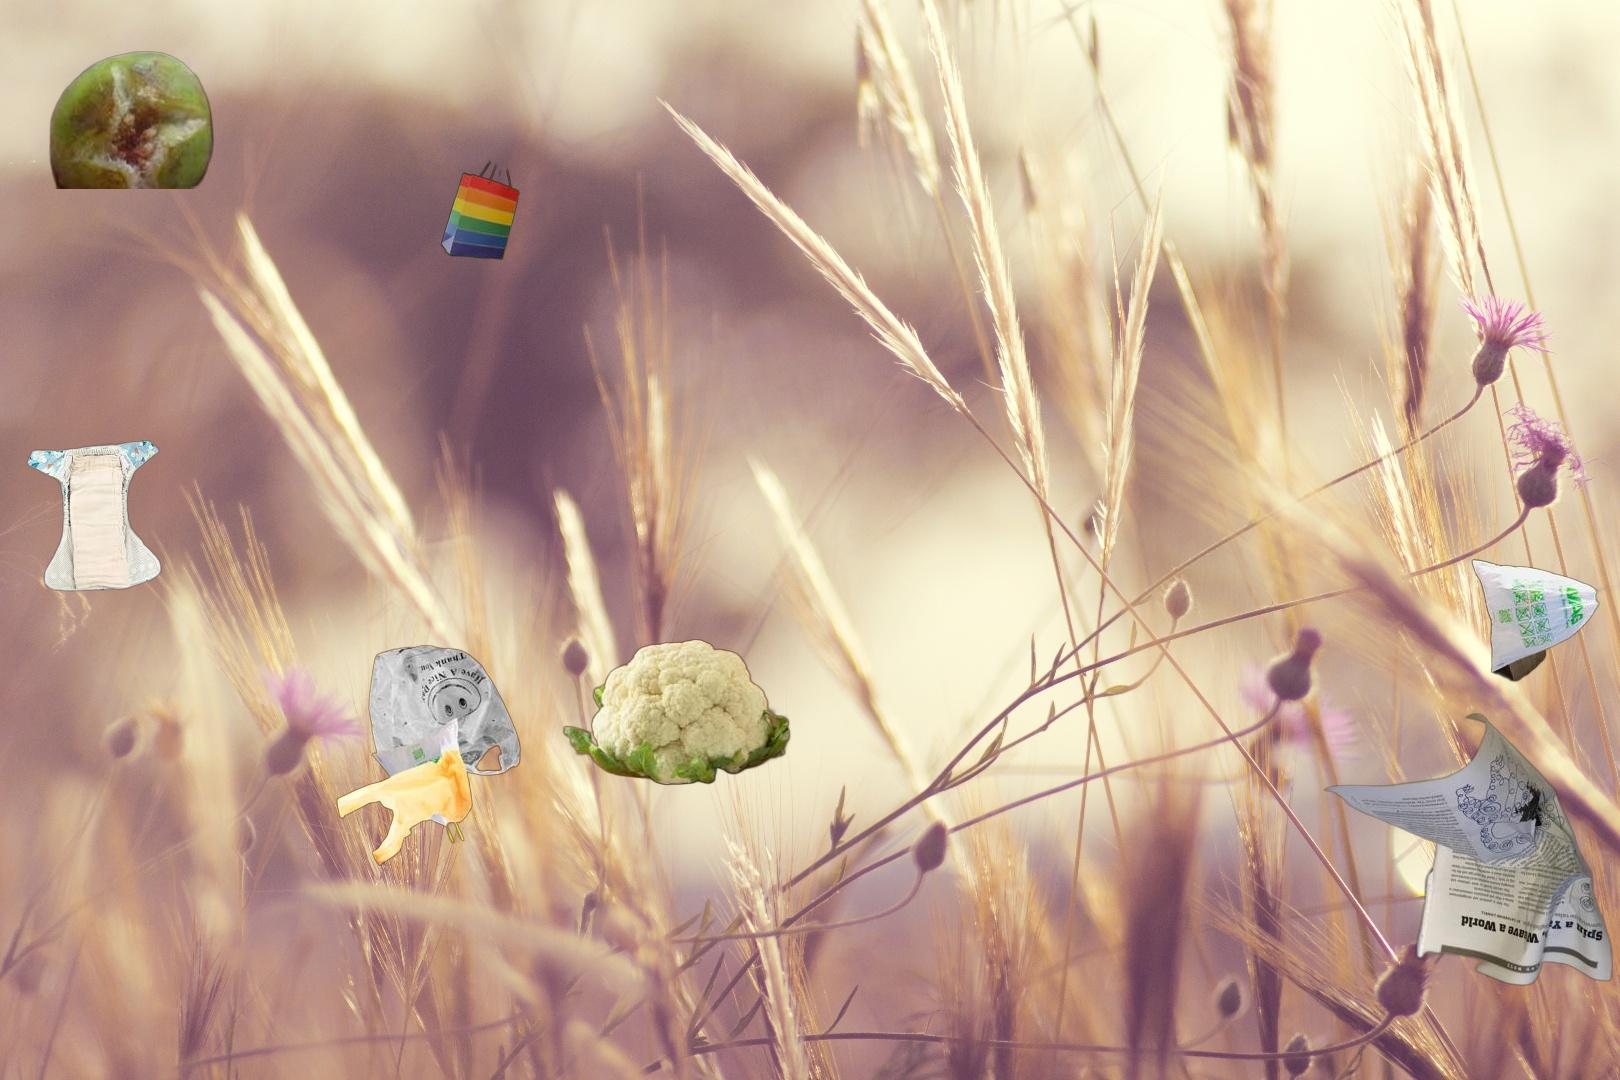biological: (560, 636, 792, 788), (47, 49, 216, 189)
paper: (1321, 711, 1618, 987)
paper-bag: (438, 155, 521, 263)
plastic-bag: (334, 642, 523, 868), (1469, 556, 1620, 683)
trash: (24, 438, 164, 594)
